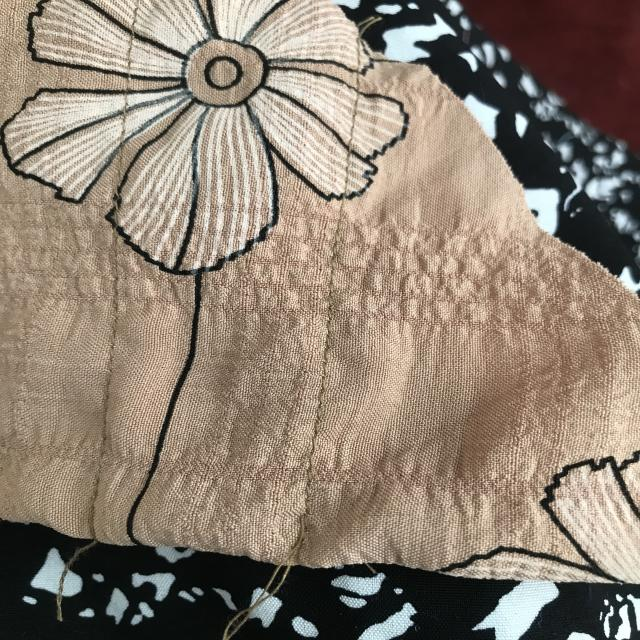good: (294, 360, 336, 469)
